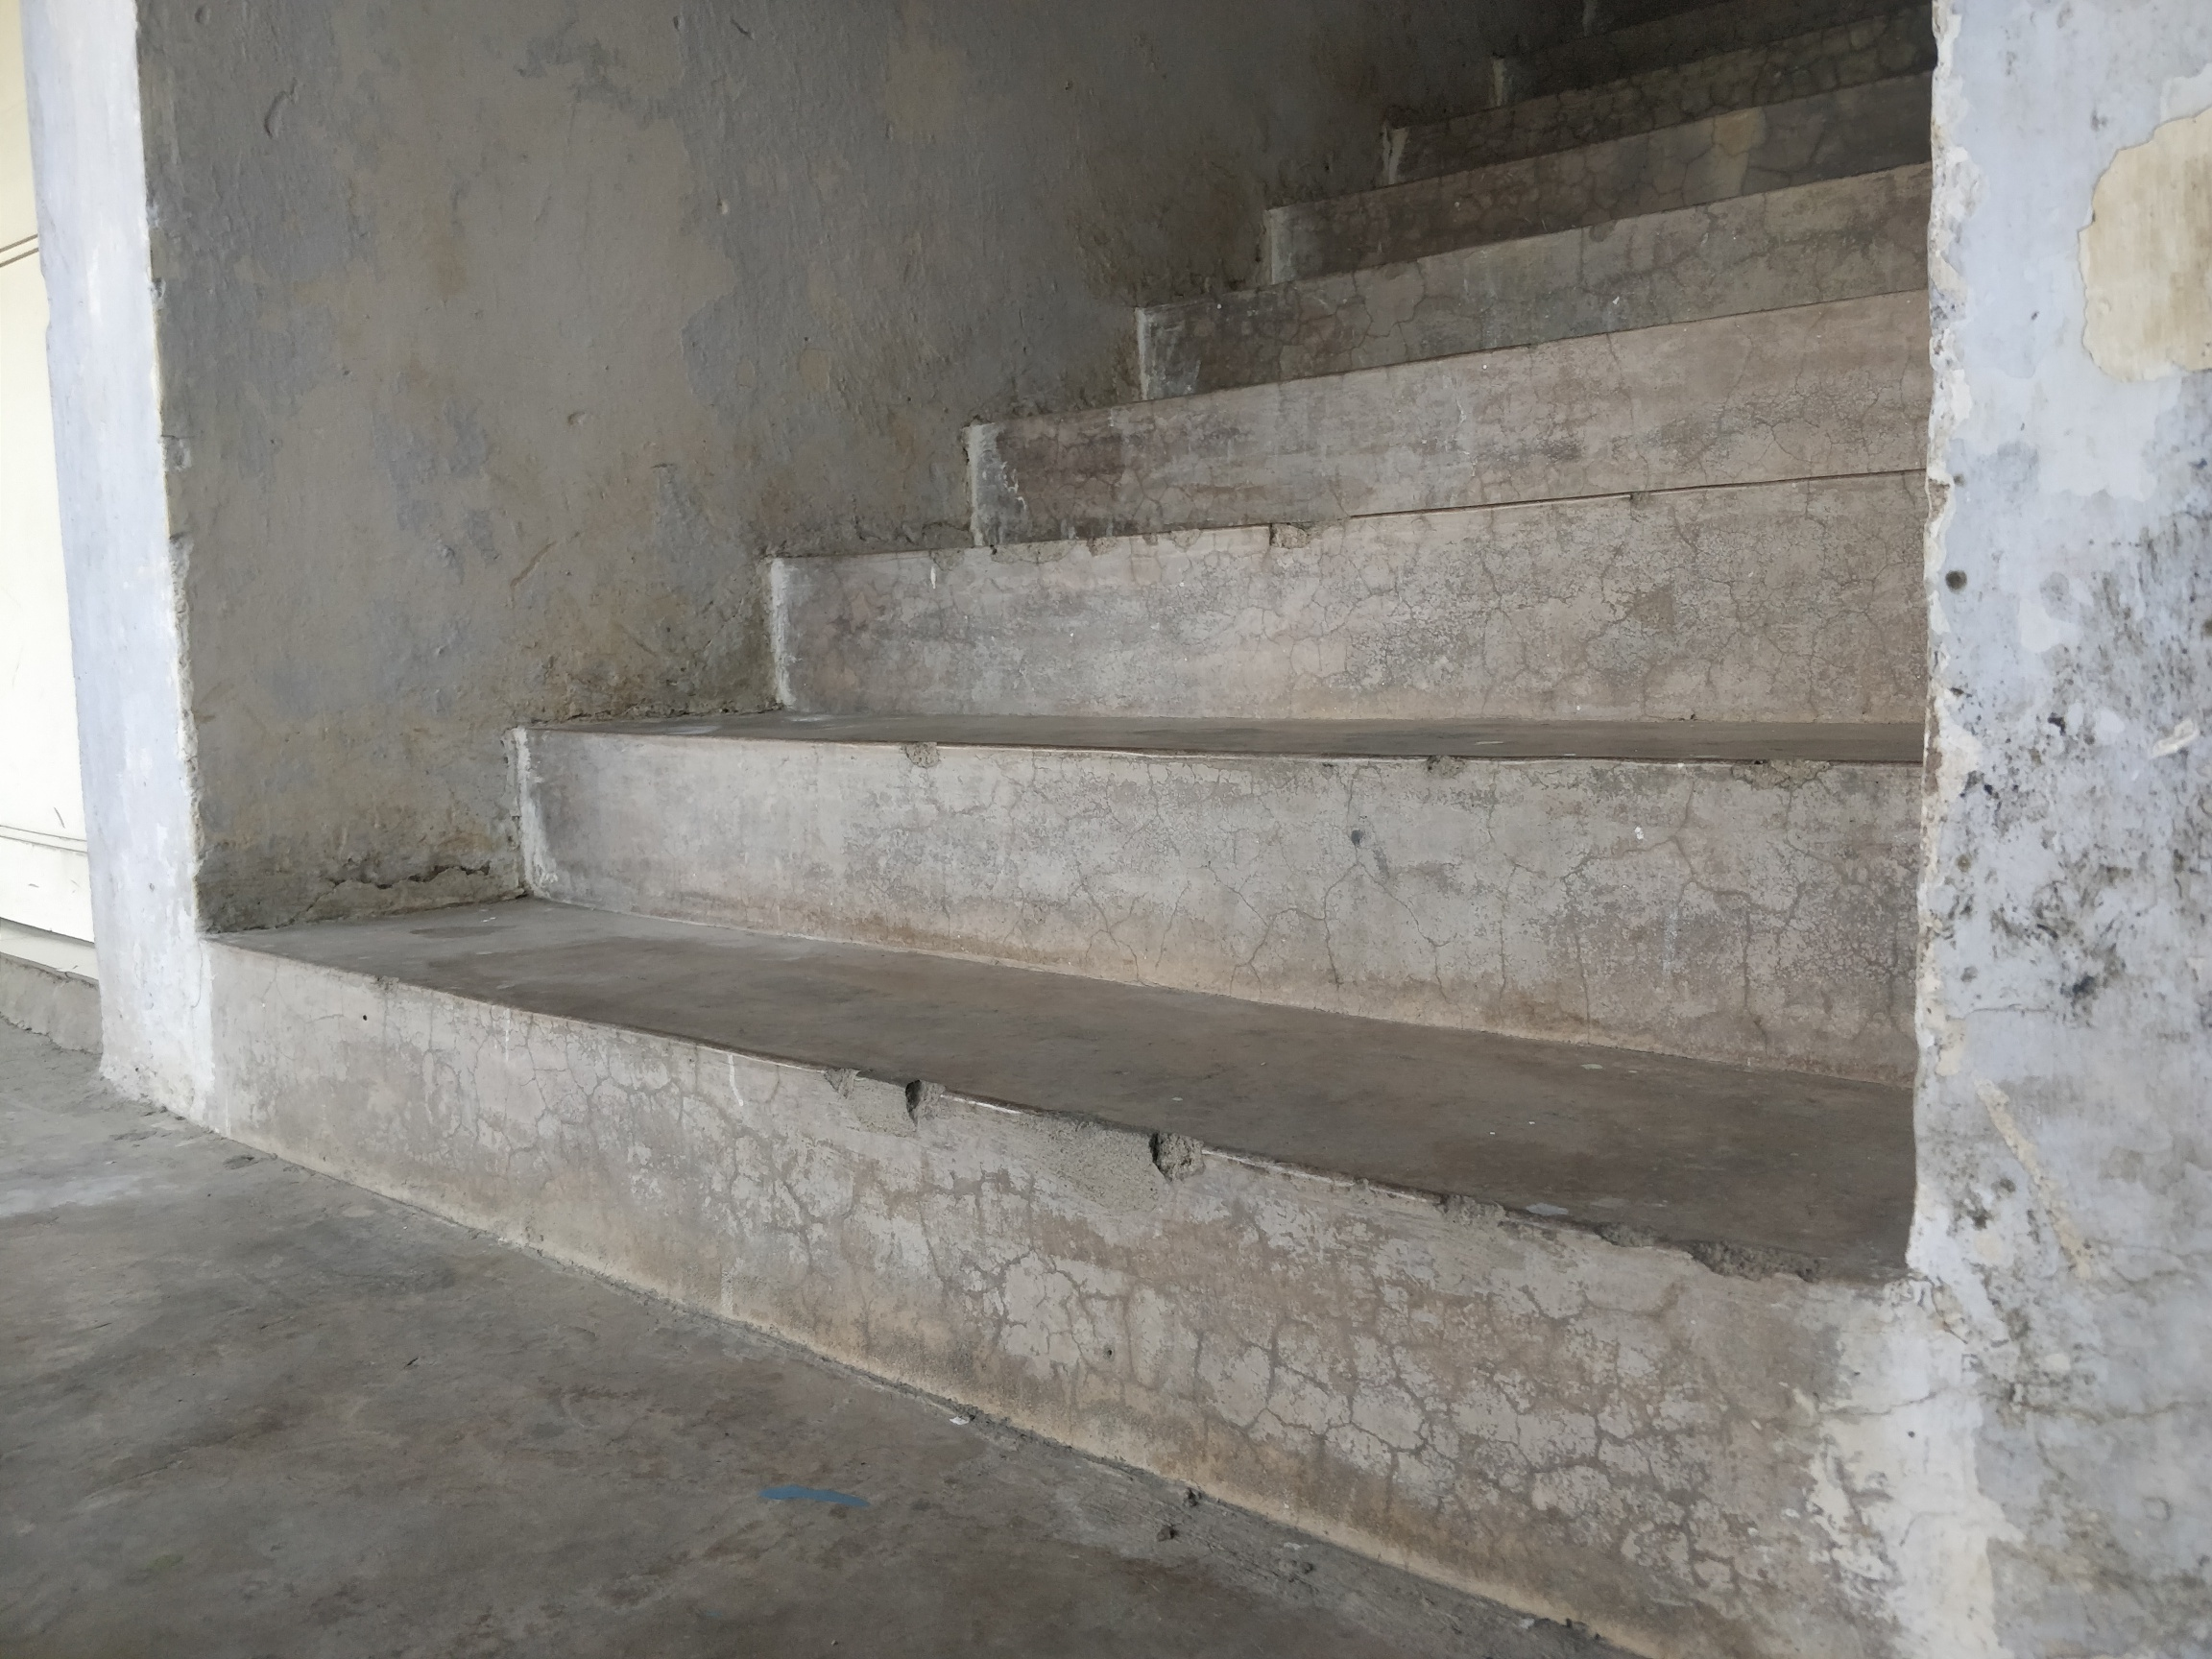stairs_up: (219, 38, 1932, 1521)
